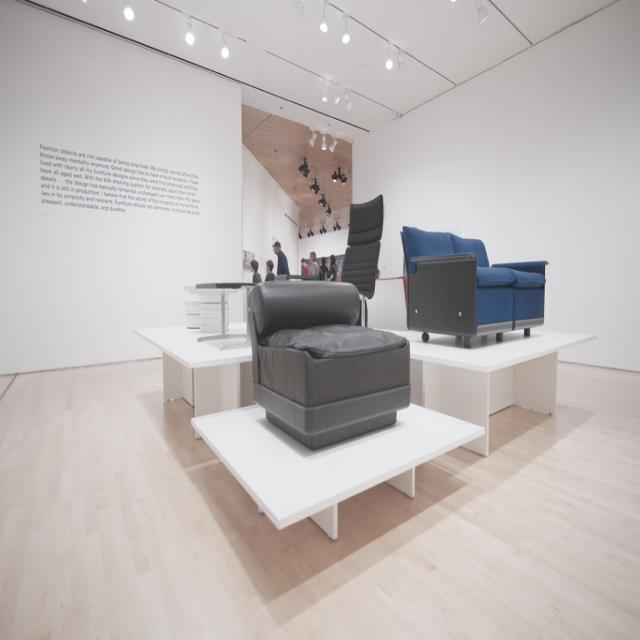chair: (339, 193, 384, 325)
desk: (382, 330, 594, 457)
person: (272, 239, 290, 275), (302, 250, 319, 278), (250, 259, 262, 283), (264, 259, 276, 281)
